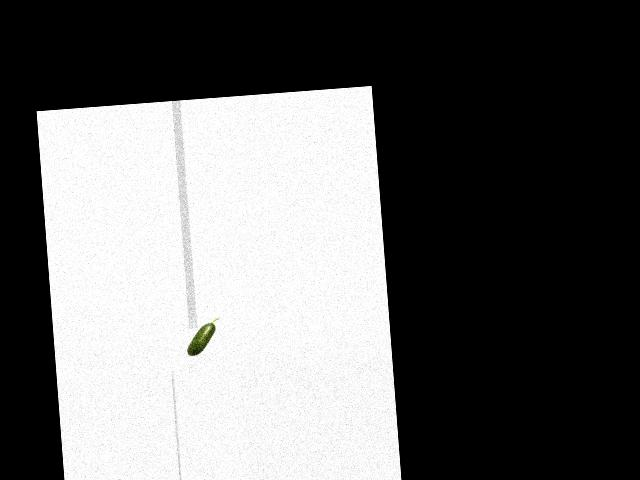cucumber: (184, 317, 221, 355)
